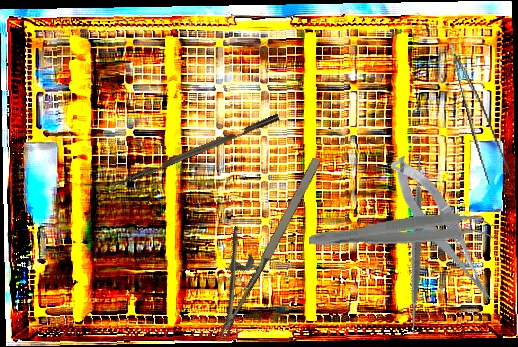Chopper: (104, 113, 284, 199)
Micro Scissor: (384, 147, 500, 315)
Needle Holder: (182, 140, 327, 343)
Spatula Surgical: (318, 148, 514, 344)
Tissue Forceps: (307, 208, 496, 260), (449, 36, 512, 189)
